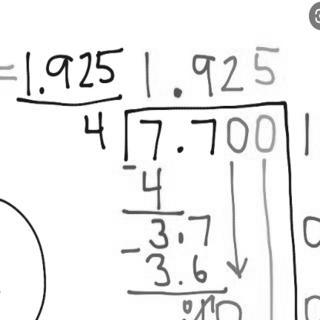.: (172, 138, 188, 160), (169, 84, 183, 102), (35, 80, 47, 96), (175, 229, 184, 248), (174, 275, 186, 285)
0: (224, 112, 253, 157), (253, 112, 280, 157)
1: (135, 47, 159, 103), (20, 50, 36, 96)
2: (74, 47, 96, 94), (222, 52, 245, 96)
3: (143, 252, 174, 291), (146, 217, 173, 252)
4: (79, 109, 112, 158), (139, 166, 168, 210)
5: (248, 38, 282, 91), (94, 44, 126, 90)
6: (188, 253, 213, 287)
7: (134, 114, 165, 163), (190, 115, 222, 156), (185, 215, 213, 247)
9: (188, 47, 220, 100), (46, 48, 73, 96)
